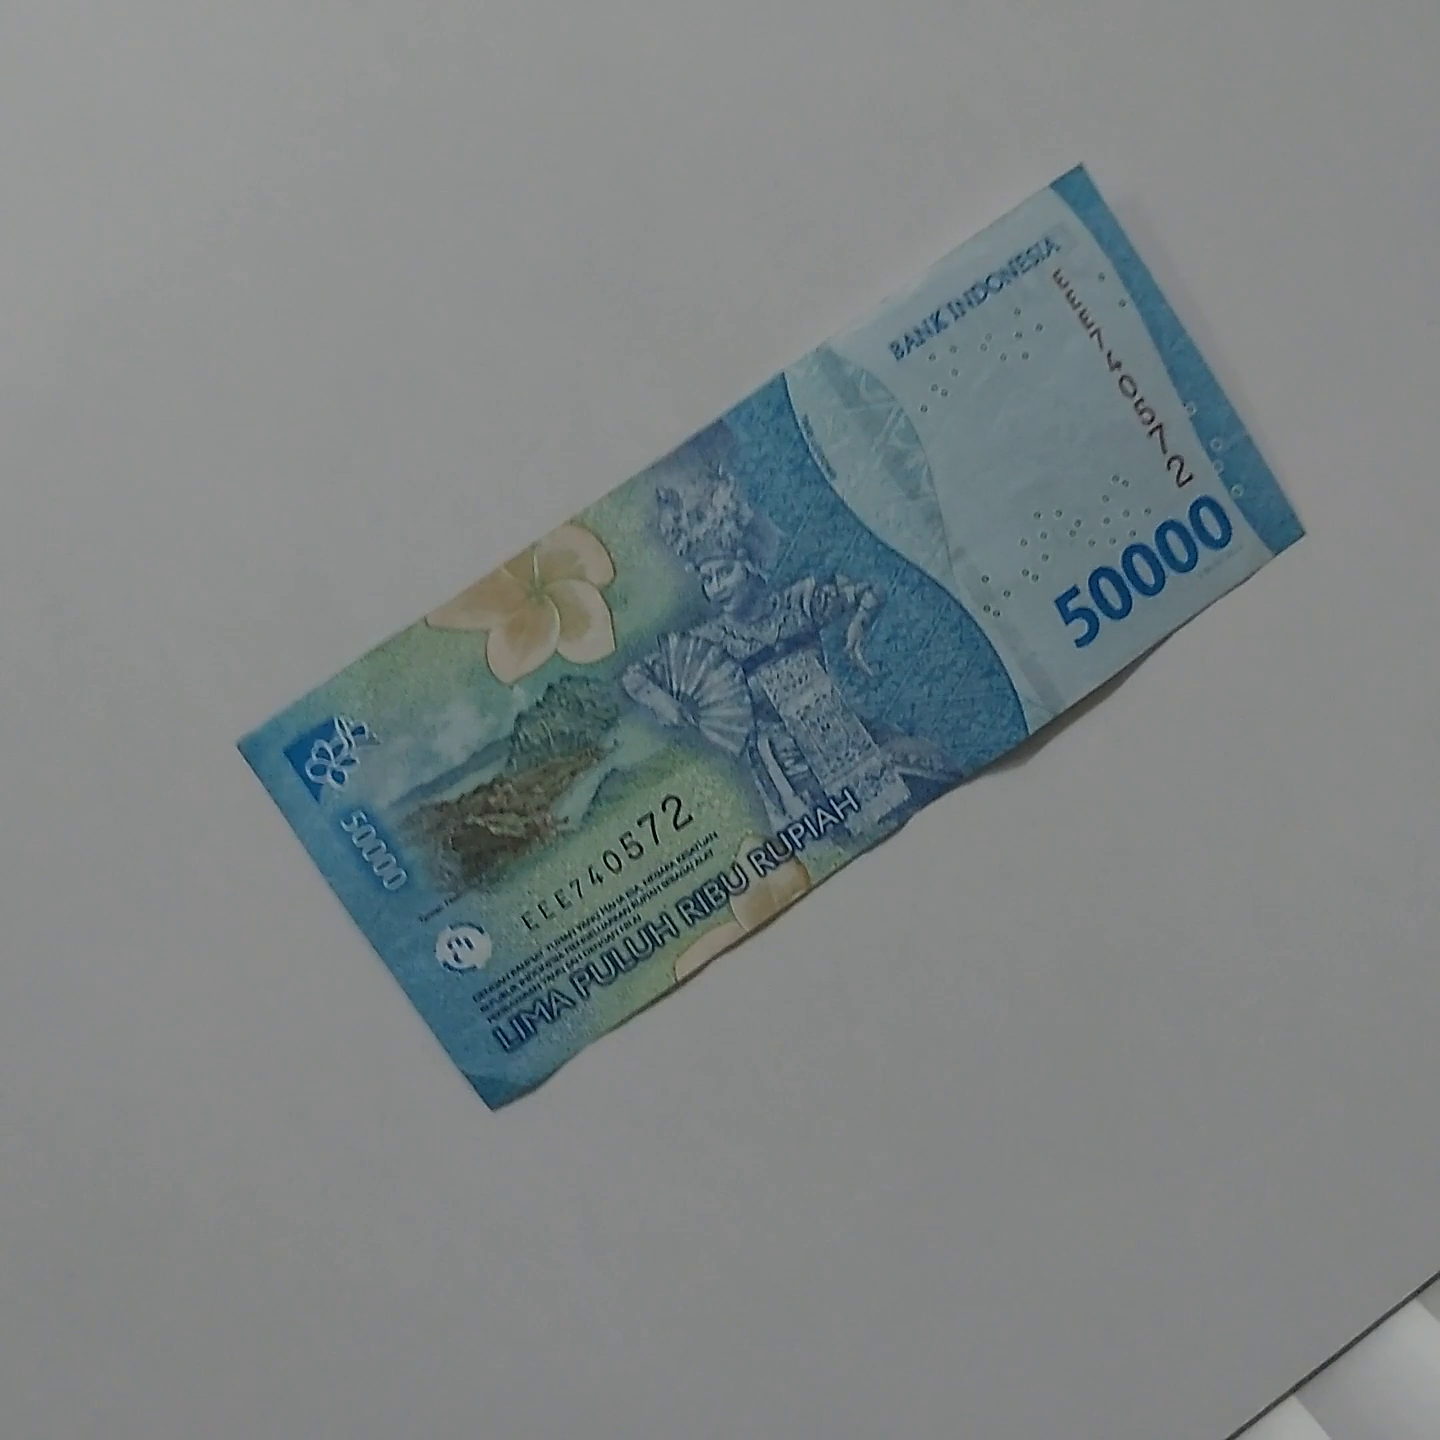50k: (190, 737, 1255, 1241)
